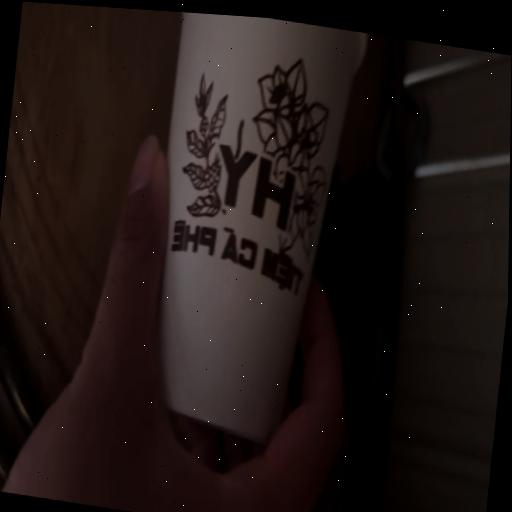Ly_giay: (160, 12, 367, 442)
